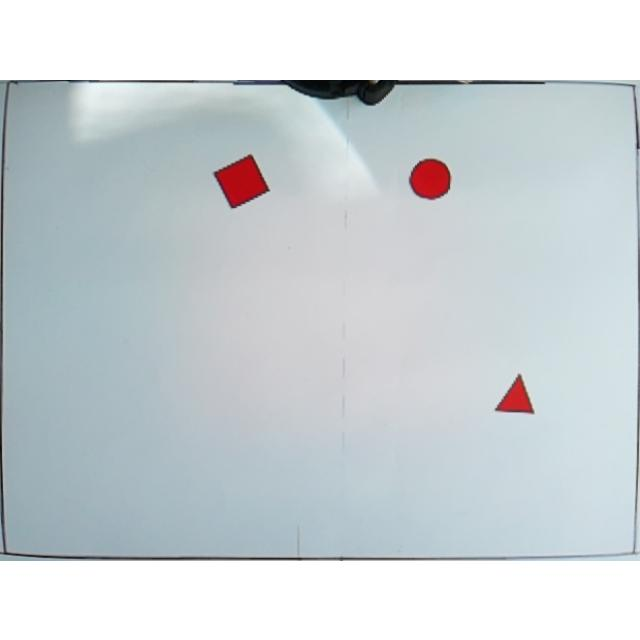redCircle: (410, 155, 452, 199)
redSquare: (212, 151, 272, 209)
redTriangle: (494, 371, 538, 414)
